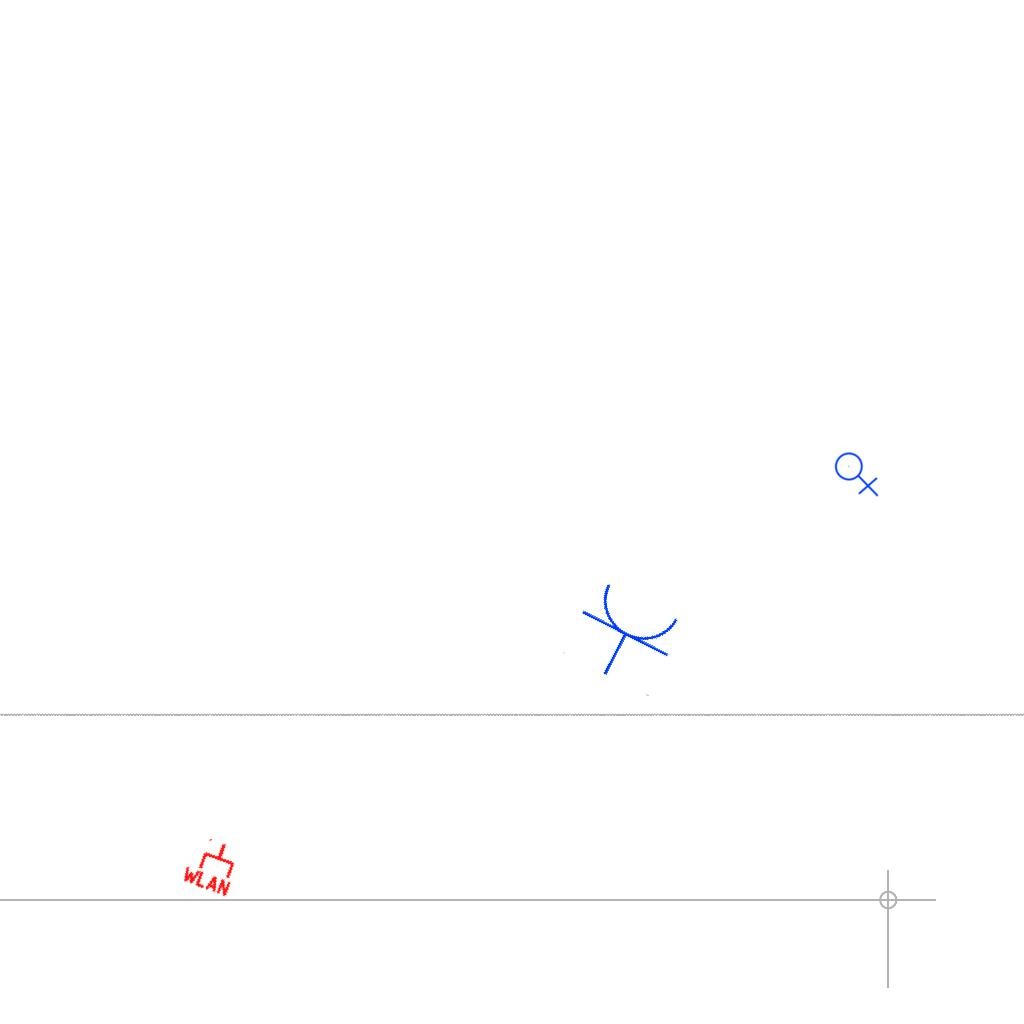Elektroanschluss_allgemein_230V_Geraeteanschlussdose_230V: (834, 448, 881, 497)
Schukosteckdose_einfach: (560, 575, 690, 698)
WLAN: (178, 831, 246, 899)
